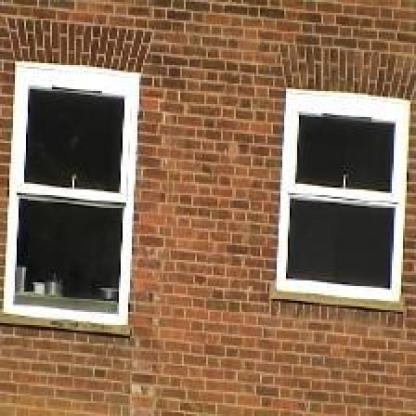other: (10, 53, 406, 380)
